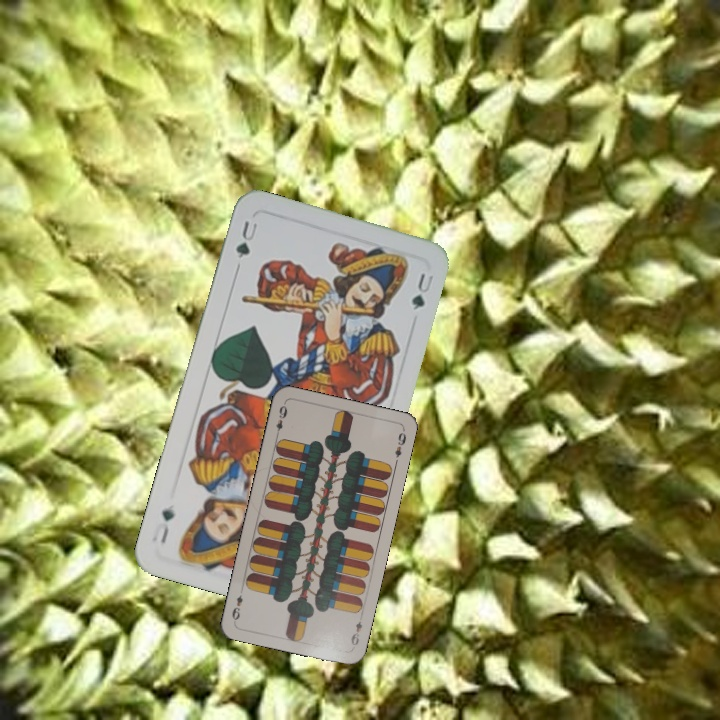E9: (272, 399, 290, 440), (347, 617, 365, 648)
GU: (231, 217, 260, 262)
